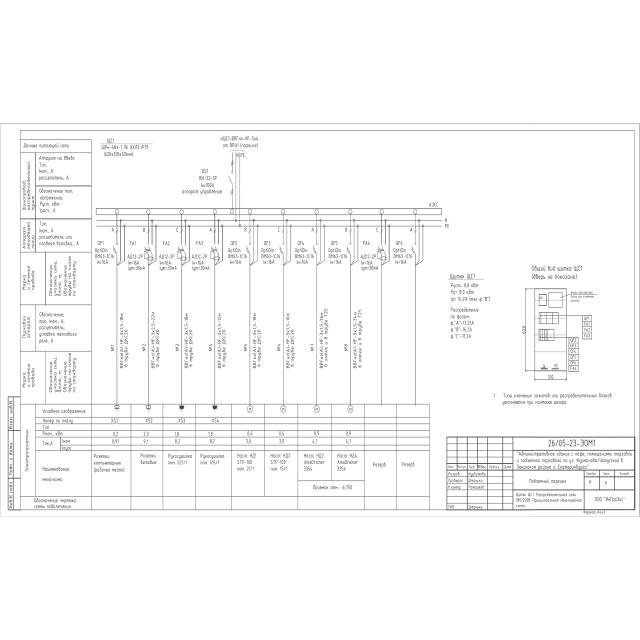-: (100, 144, 150, 158), (127, 253, 146, 272), (94, 247, 114, 265), (293, 248, 314, 265), (360, 253, 379, 271), (327, 248, 348, 264), (392, 248, 413, 264), (260, 248, 281, 264), (192, 254, 210, 272), (159, 253, 177, 271), (227, 248, 247, 264), (198, 175, 218, 188)
QF: (112, 242, 119, 256), (411, 242, 417, 256), (246, 242, 252, 256), (279, 242, 285, 256), (313, 242, 319, 256), (347, 242, 352, 256)
QFD: (176, 244, 188, 262), (143, 243, 155, 261), (376, 244, 388, 261), (209, 245, 221, 262)
QS: (228, 170, 234, 185)
